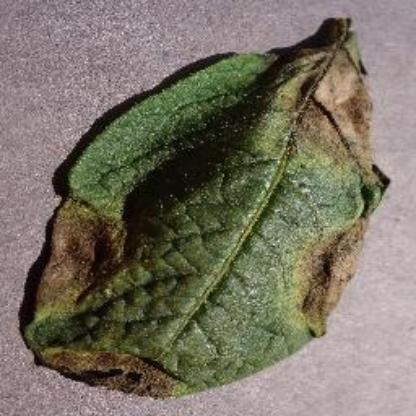Late-Blight: (23, 15, 389, 405)
